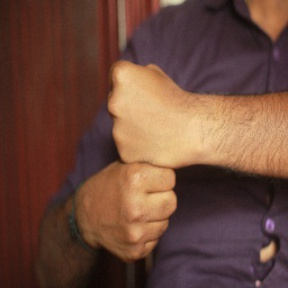G: (82, 55, 197, 265)
